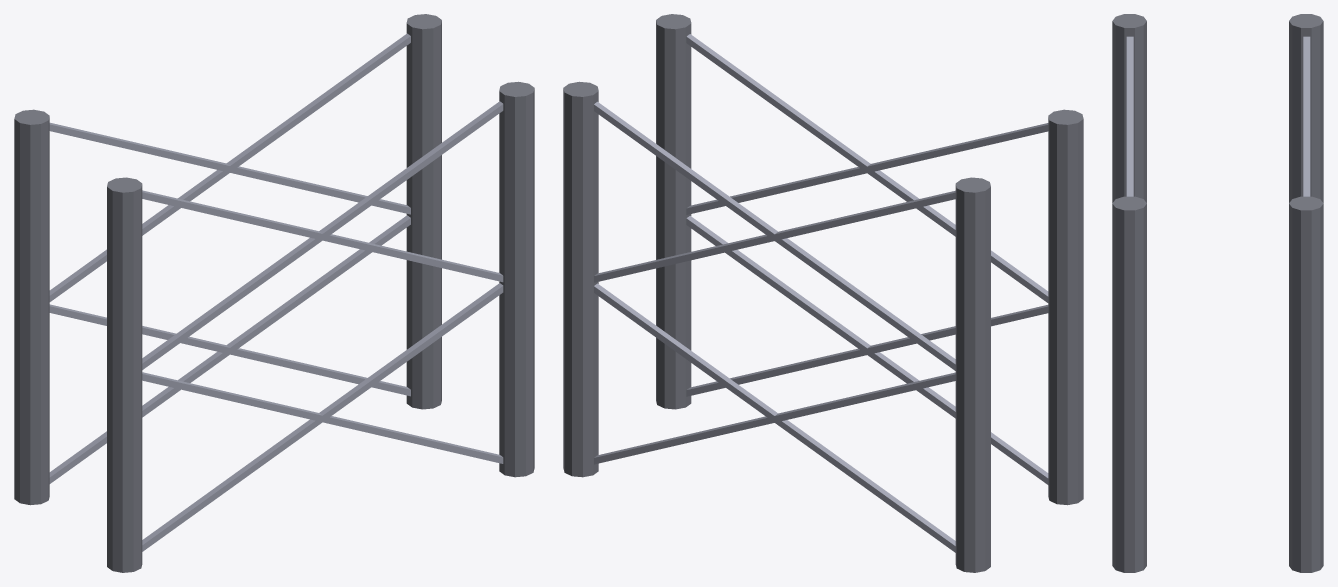
File: Structure.fbx
3 renders of one model, left to right at view 1: azimuth 30°, elevation 25°; view 2: azimuth 150°, elevation 25°; view 3: azimuth 270°, elevation 25°, orthographic. The views are drawn at different scales.
Parts seen in each view (by area): view 1: fallHolder; view 2: fallHolder; view 3: fallHolder.
Part boxes in pixels (box(x1,y1,x2,y2)): fallHolder: box(14, 14, 534, 572); fallHolder: box(563, 14, 1083, 572); fallHolder: box(1112, 14, 1323, 572).
Size of the model in its own units: 754 by 649 by 343.
